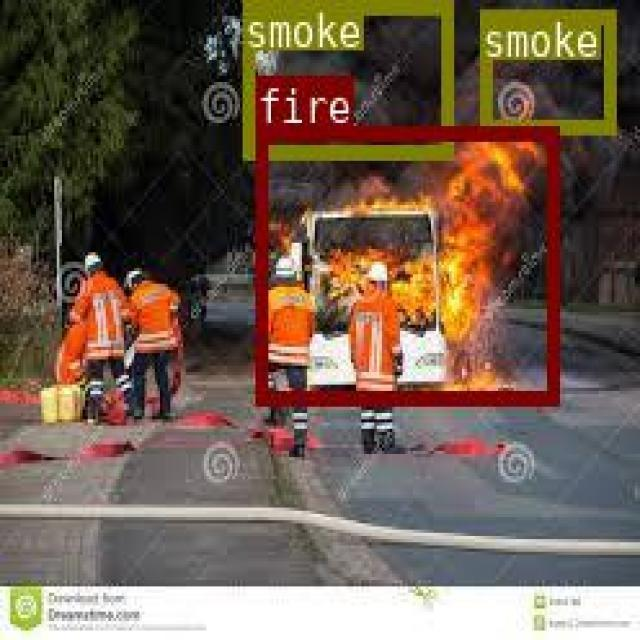fire: (254, 123, 555, 401)
smoke: (240, 0, 452, 158), (480, 8, 612, 131)
